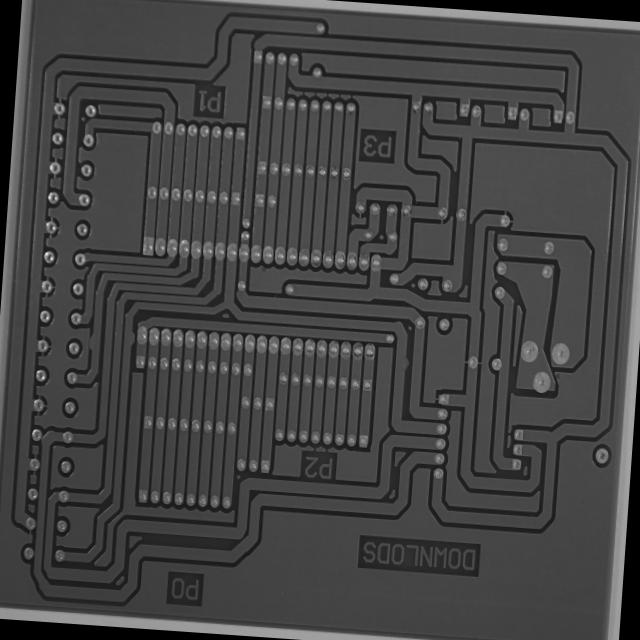spur: (397, 348, 414, 376), (86, 327, 100, 353), (125, 325, 138, 348)
